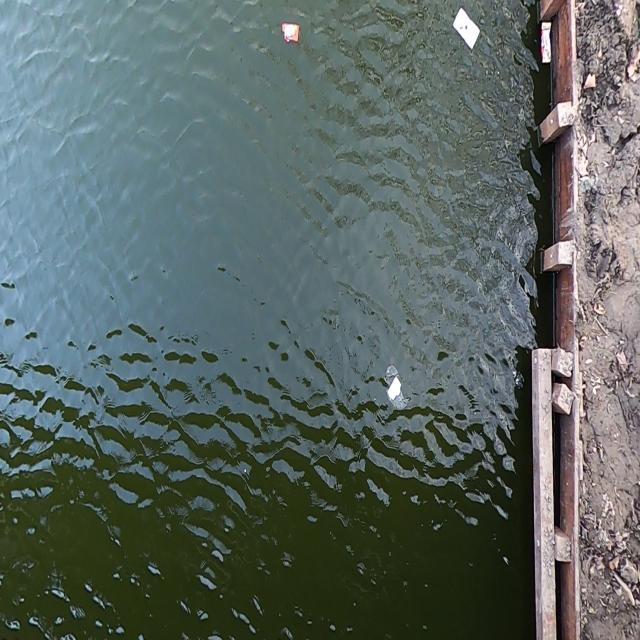Sac plastique: (380, 358, 412, 418)
